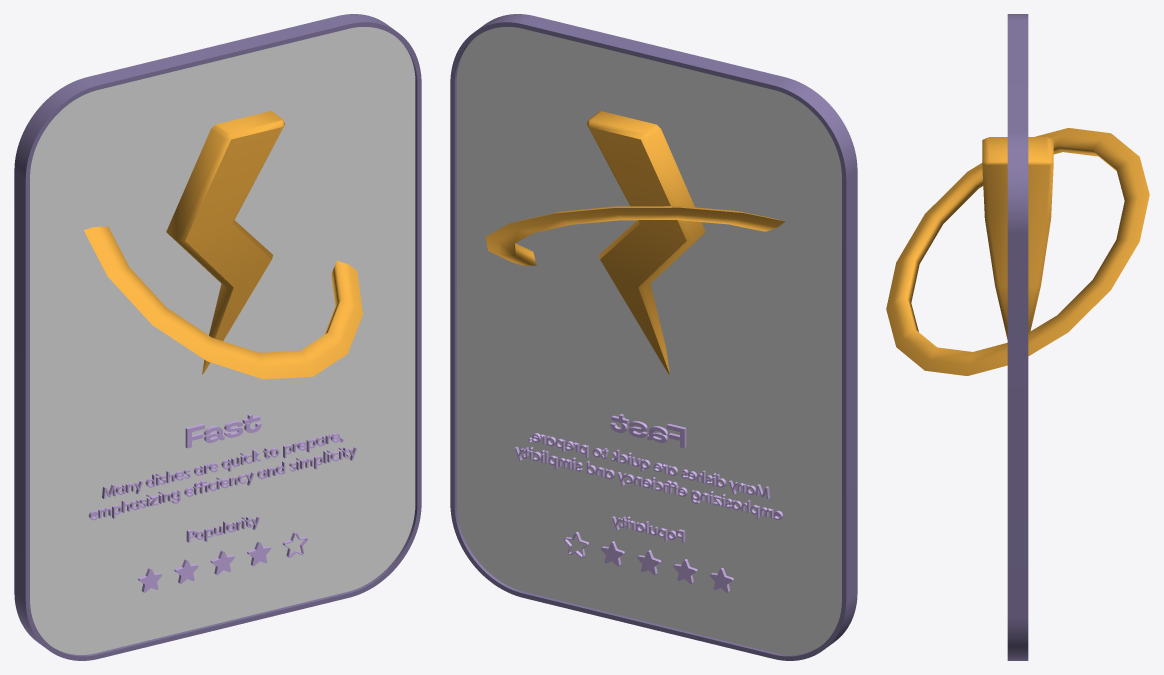
Rendered from fast.glb.
3 views of the same model, side by side, from view 1: azimuth 30°, elevation 25°; view 2: azimuth 150°, elevation 25°; view 3: azimuth 270°, elevation 25° (orthographic). The views are drawn at different scales.
Parts seen in each view (by area): view 1: Mesh_2706.001, Pickup_Thunder.001, Mesh_2371.002, Mesh_929.002, Mesh_2634.001, Mesh_2610.002; view 2: Mesh_2706.001, Mesh_2371.002, Pickup_Thunder.001, Mesh_929.002, Mesh_2634.001, Mesh_2610.002; view 3: Pickup_Thunder.001, Mesh_2371.002.
Boxes of the visible parts, left/top/right/bottom form: Mesh_2706.001: left=30, top=27, right=415, bottom=654; Pickup_Thunder.001: left=83, top=111, right=362, bottom=379; Mesh_2371.002: left=14, top=14, right=421, bottom=660; Mesh_929.002: left=88, top=433, right=357, bottom=542; Mesh_2634.001: left=138, top=531, right=307, bottom=592; Mesh_2610.002: left=185, top=414, right=261, bottom=448; Mesh_2706.001: left=456, top=27, right=841, bottom=654; Mesh_2371.002: left=450, top=14, right=857, bottom=660; Pickup_Thunder.001: left=485, top=111, right=785, bottom=374; Mesh_929.002: left=514, top=433, right=783, bottom=542; Mesh_2634.001: left=564, top=531, right=733, bottom=592; Mesh_2610.002: left=610, top=414, right=686, bottom=448; Pickup_Thunder.001: left=886, top=128, right=1149, bottom=375; Mesh_2371.002: left=1007, top=14, right=1028, bottom=660.
Bounding box in the file's own units: 9.06 × 12.55 × 5.75.
3 materials, 1 textured.
